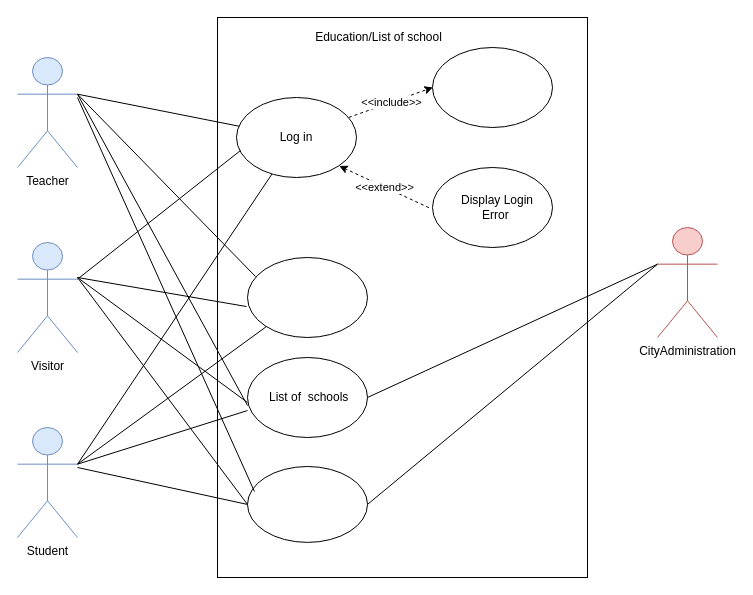
Some shapes in this 753 by 595 pixel diagram are drawn without their labels. The box of each missing label's shape, as (x1, y1, x2, y2) in pixels:
Select available school list: (246, 256, 368, 338)
Verify Password: (432, 46, 552, 128)
View school info: (246, 466, 368, 542)
